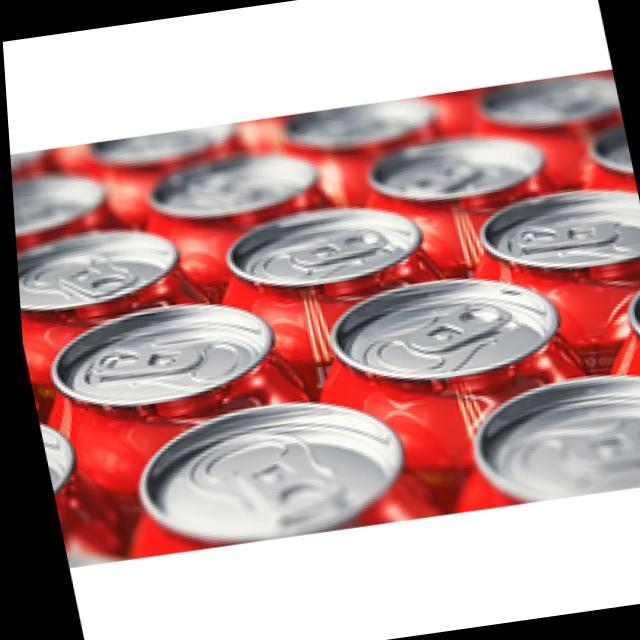aluminum_soda_cans: (92, 380, 439, 568), (26, 297, 300, 430), (287, 262, 564, 392), (424, 357, 640, 510), (200, 195, 429, 302), (460, 182, 640, 290), (12, 221, 188, 329), (140, 150, 319, 226)
